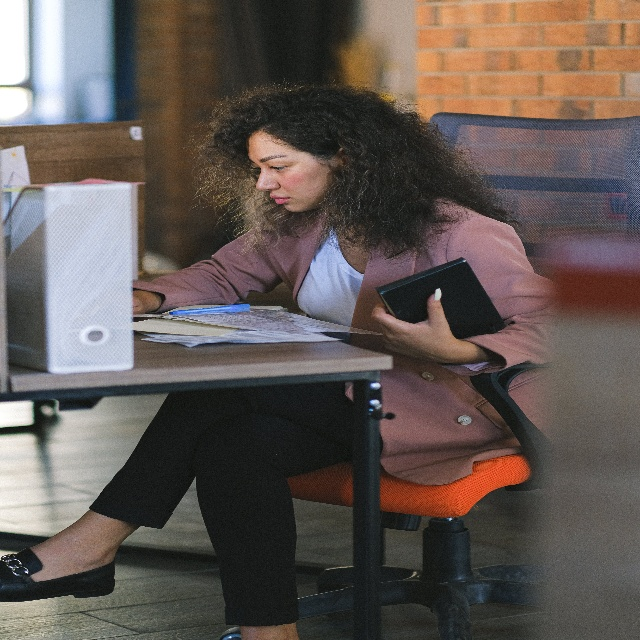Sin_guantes: (370, 293, 459, 364)
